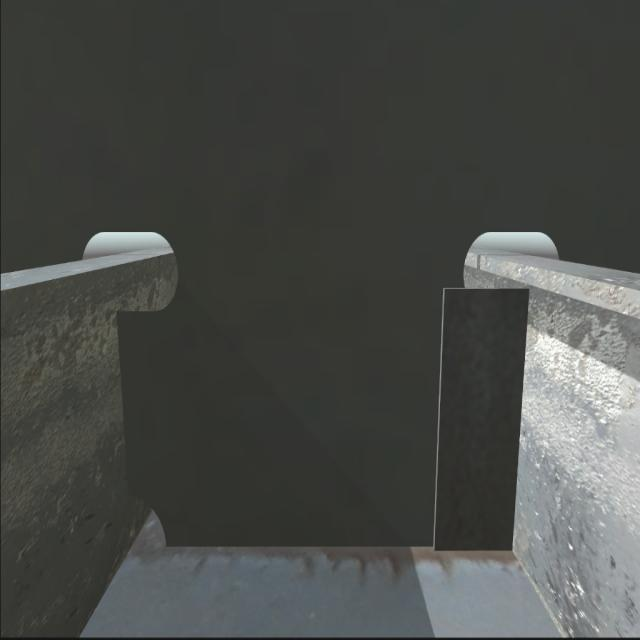fillet_hole: (128, 496, 168, 545)
fillet_yong_jeop_jang: (156, 542, 521, 556)
longi_yong_jeop_jang: (110, 303, 138, 507), (511, 284, 528, 548)
plate_CP01: (441, 285, 519, 555)
